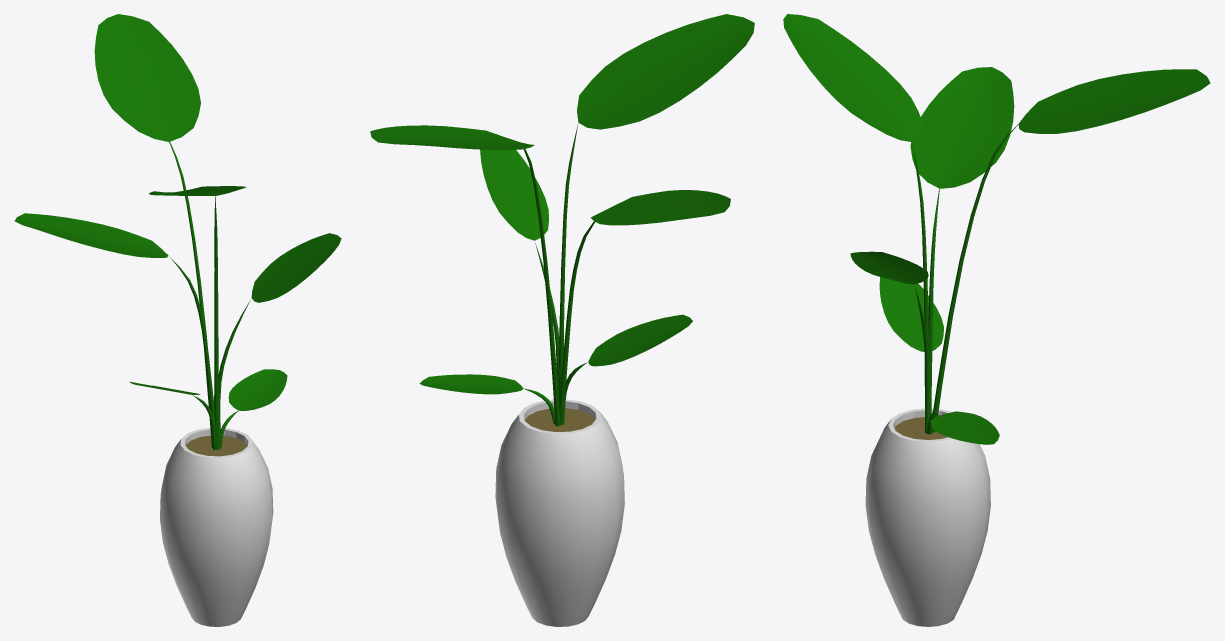
File: PotPlantLarge.fbx
3 renders of one model, left to right at view 1: azimuth 30°, elevation 25°; view 2: azimuth 150°, elevation 25°; view 3: azimuth 270°, elevation 25°, orthographic. The views are drawn at different scales.
Parts seen in each view (by area): view 1: PotPlantLarge; view 2: PotPlantLarge; view 3: PotPlantLarge.
Part boxes in pixels (bbox=[...]): PotPlantLarge: bbox=[14, 14, 341, 626]; PotPlantLarge: bbox=[370, 14, 754, 626]; PotPlantLarge: bbox=[783, 14, 1210, 626].
Bounding box in the file's own units: 1.7 × 3.05 × 2.15.
